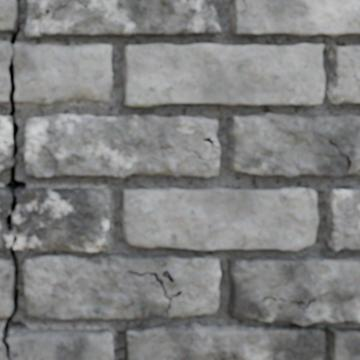brick: (126, 256, 359, 359), (23, 254, 220, 318), (123, 45, 324, 106), (122, 188, 318, 250), (24, 115, 220, 177), (227, 114, 359, 177), (25, 0, 219, 38), (230, 0, 359, 38), (325, 187, 359, 249), (327, 46, 359, 104), (0, 257, 14, 317), (0, 117, 13, 172), (0, 0, 17, 31)
broken_brick: (14, 44, 113, 106), (14, 188, 109, 252), (10, 328, 114, 359), (0, 187, 12, 250), (0, 41, 11, 103), (0, 344, 7, 359), (0, 326, 2, 337)
crack: (0, 0, 27, 359), (126, 270, 183, 316), (329, 137, 352, 173), (43, 0, 70, 20), (76, 0, 90, 15), (203, 136, 219, 149), (241, 0, 248, 16)
